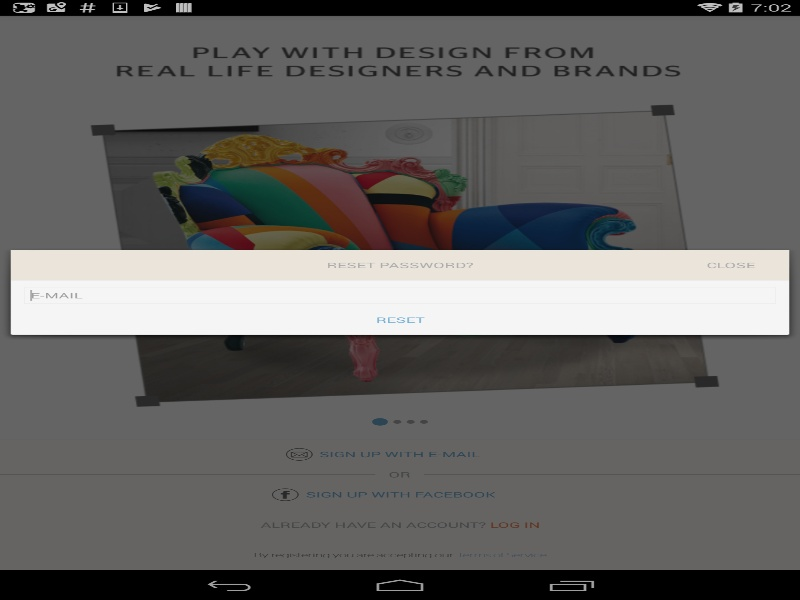Button: (672, 250, 789, 280), (341, 305, 458, 335)
Input: (24, 287, 776, 303)
